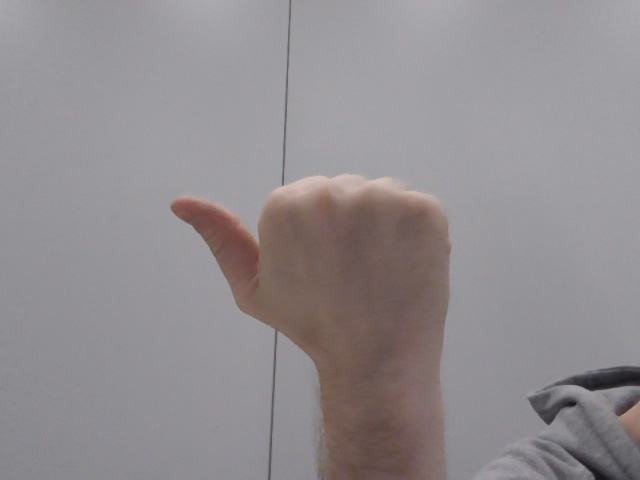right: (159, 167, 490, 377)
